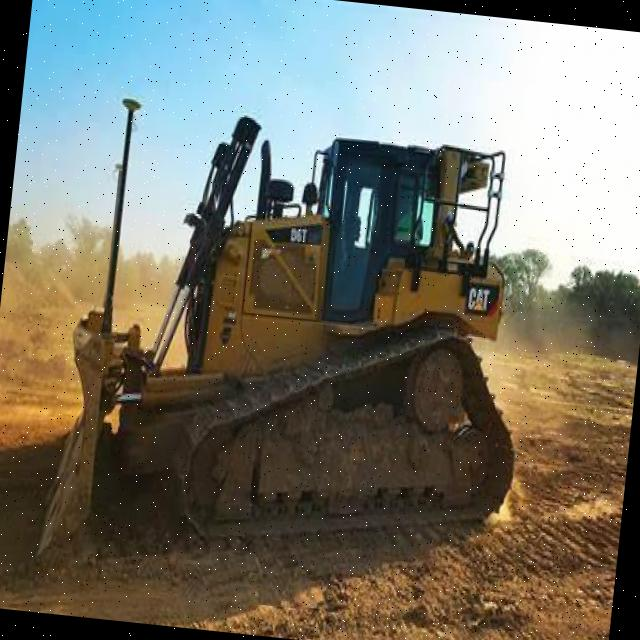Bulldozer: (44, 66, 598, 624)
